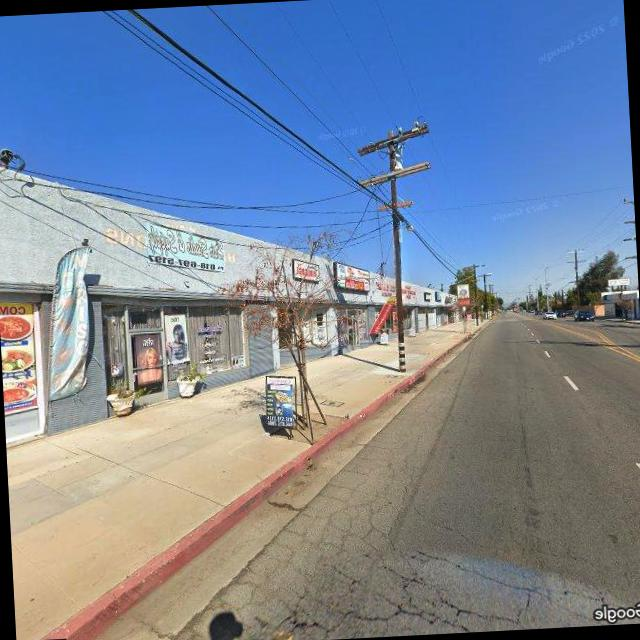crack: (190, 435, 509, 640)
